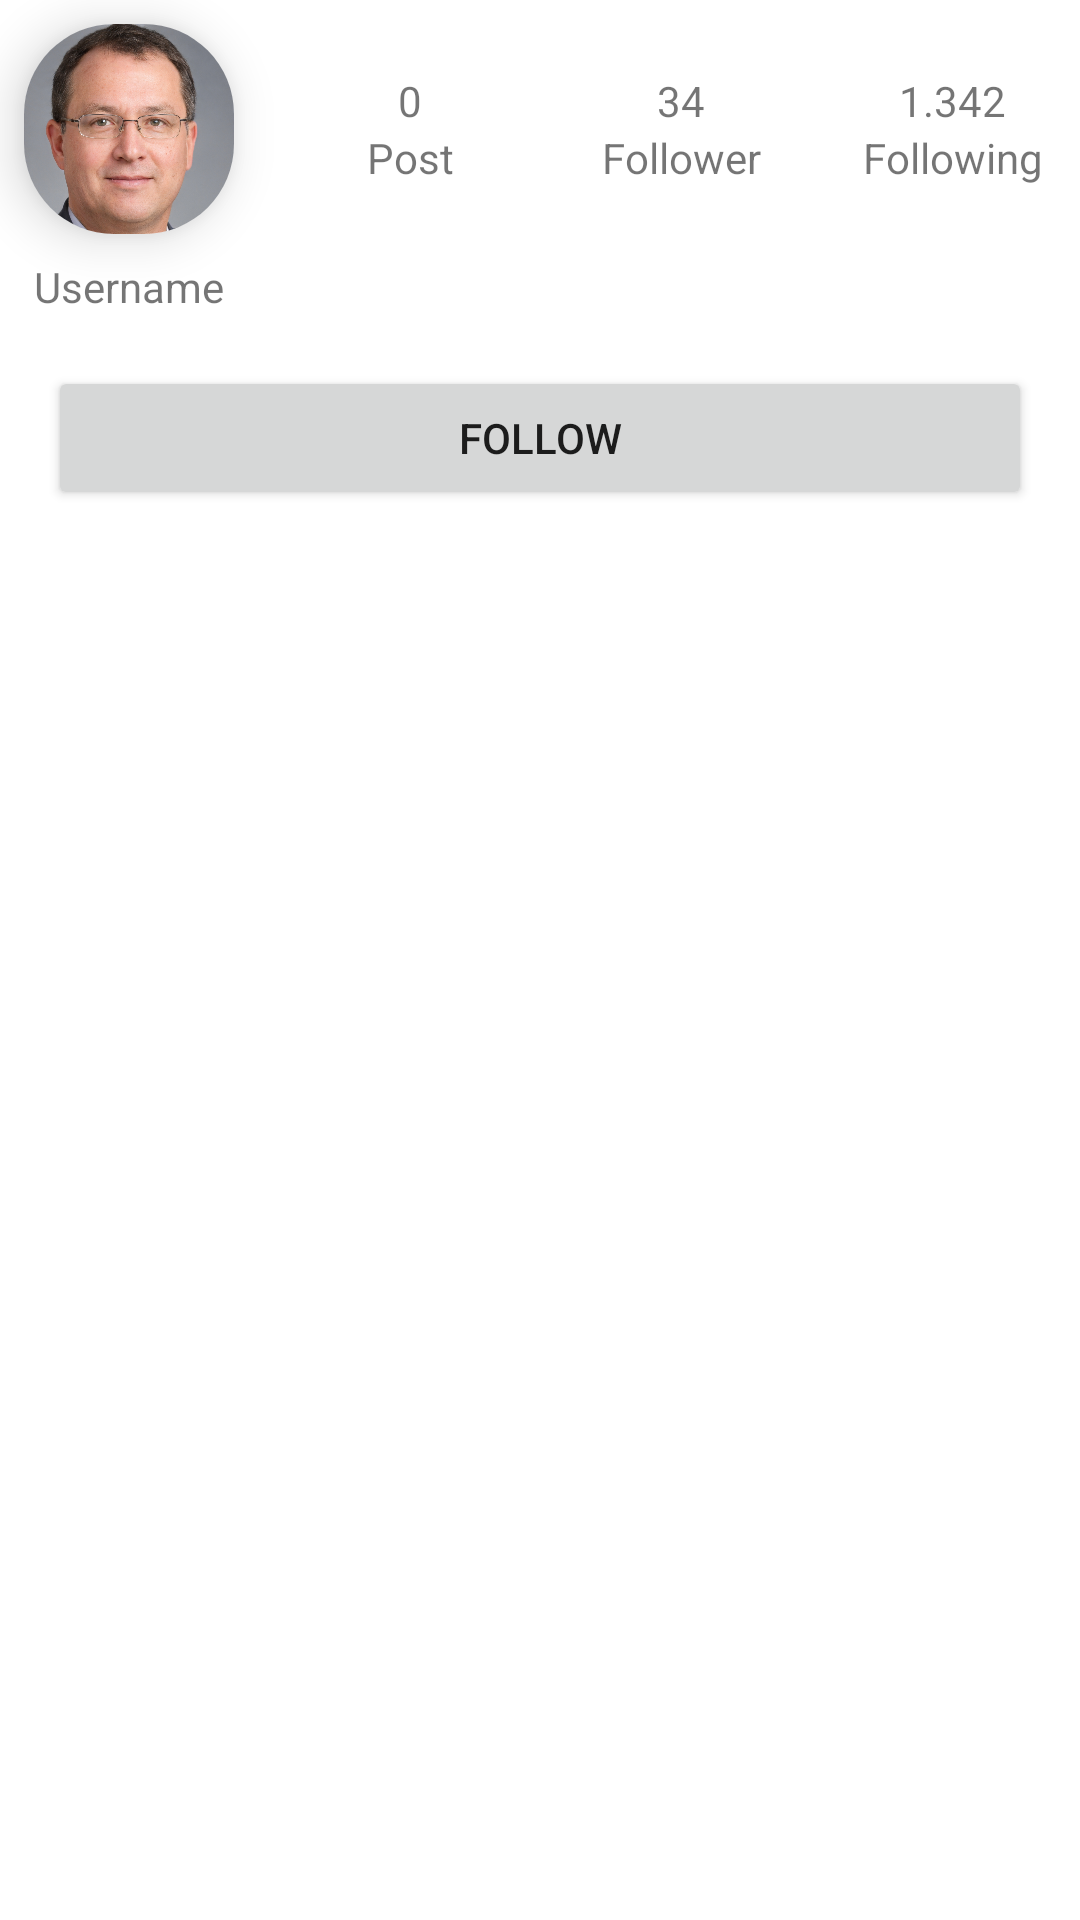

Named icons in this screenshot (1080x1920) and their centers, (x,y):
avatarai: (129,129)
